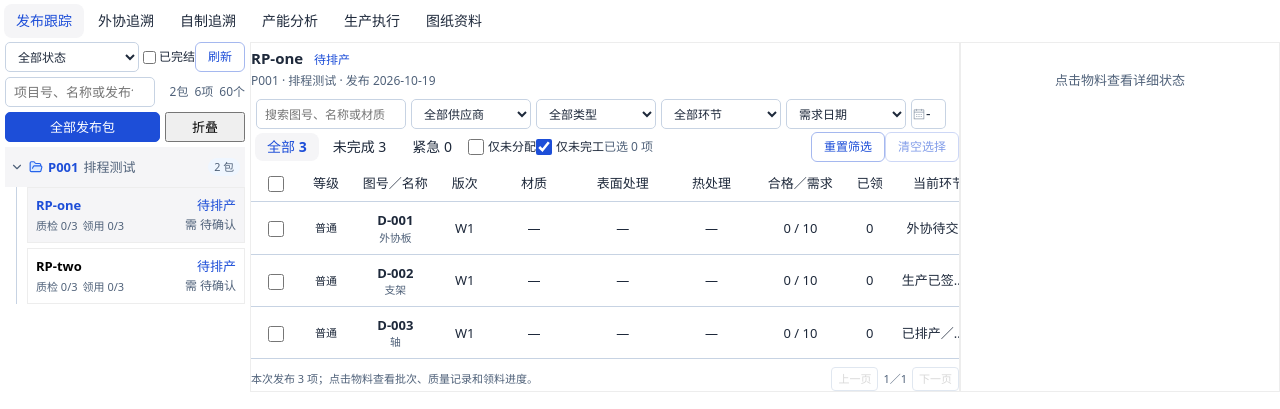
发布跟踪快捷筛选与全部分类 › 读取汇总期间切换回发布包，迟到的汇总结果不能覆盖当前选择
This screenshot has width=1280, height=409.
Click the button "全部发布包" at (82, 127), box [5,112,160,142]
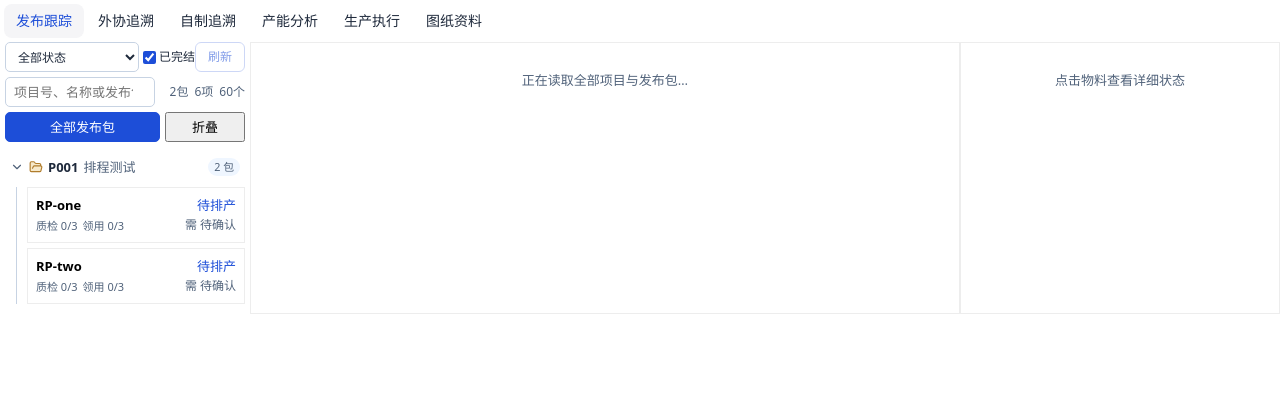
Click the button "RP-one 待排产 质检 0/3 领用 0/3 需 待确认" at (136, 215), box [27,187,245,243]
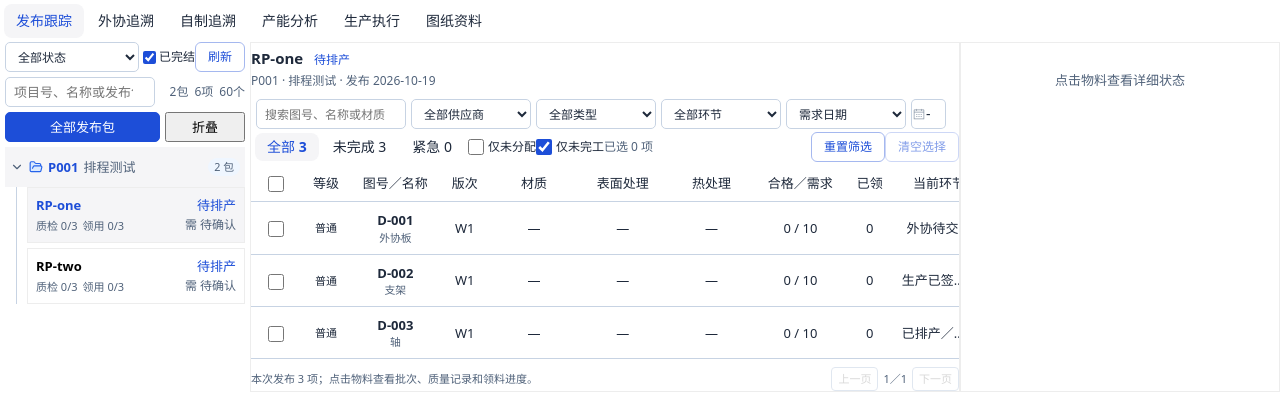
Expected: the header shows "RP-one", [251,48,307,68]
Expected: the button "刷新" is enabled, [195,42,245,72]
